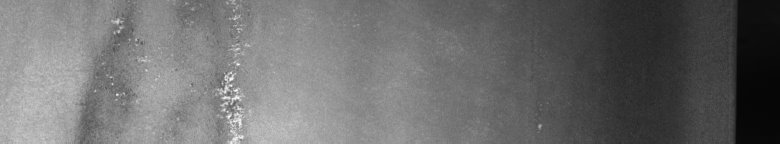hc: (81, 4, 250, 136)
